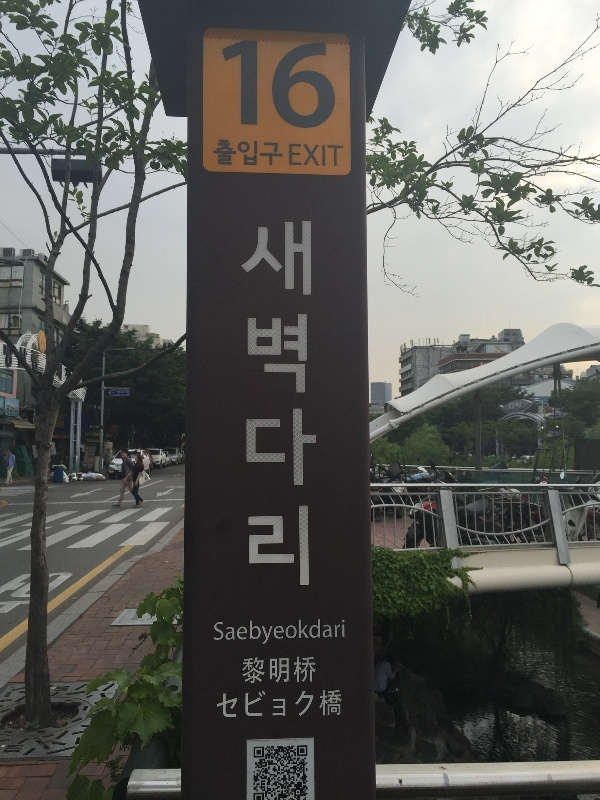text: (241, 217, 256, 592), (257, 217, 272, 592), (273, 217, 288, 592), (289, 217, 304, 592), (305, 217, 318, 592), (225, 38, 240, 132), (241, 38, 256, 132), (257, 38, 272, 132), (273, 38, 288, 132), (289, 38, 304, 132), (305, 38, 320, 132), (321, 38, 336, 132), (225, 136, 240, 169), (241, 136, 256, 169), (257, 136, 272, 169), (225, 689, 240, 722), (241, 689, 256, 722), (257, 689, 272, 722), (273, 689, 288, 722), (289, 689, 304, 722), (305, 689, 320, 722), (321, 689, 336, 722), (257, 655, 272, 687), (273, 655, 288, 687), (289, 655, 304, 687), (225, 619, 240, 649), (241, 619, 256, 649), (257, 619, 272, 649), (273, 619, 288, 649), (289, 619, 304, 649), (305, 619, 320, 649), (321, 619, 336, 649), (289, 140, 304, 170), (305, 140, 320, 170), (321, 140, 336, 170), (243, 655, 256, 687), (273, 136, 285, 169), (305, 655, 317, 687), (239, 217, 240, 592), (19, 347, 32, 375), (213, 619, 224, 649), (214, 136, 224, 169), (3, 344, 16, 369), (337, 619, 346, 649), (217, 689, 224, 722), (337, 140, 344, 170), (337, 689, 343, 722), (33, 347, 40, 375), (222, 38, 224, 132), (65, 362, 73, 381), (58, 362, 64, 381), (116, 390, 128, 398), (8, 404, 16, 416), (17, 404, 19, 416)
